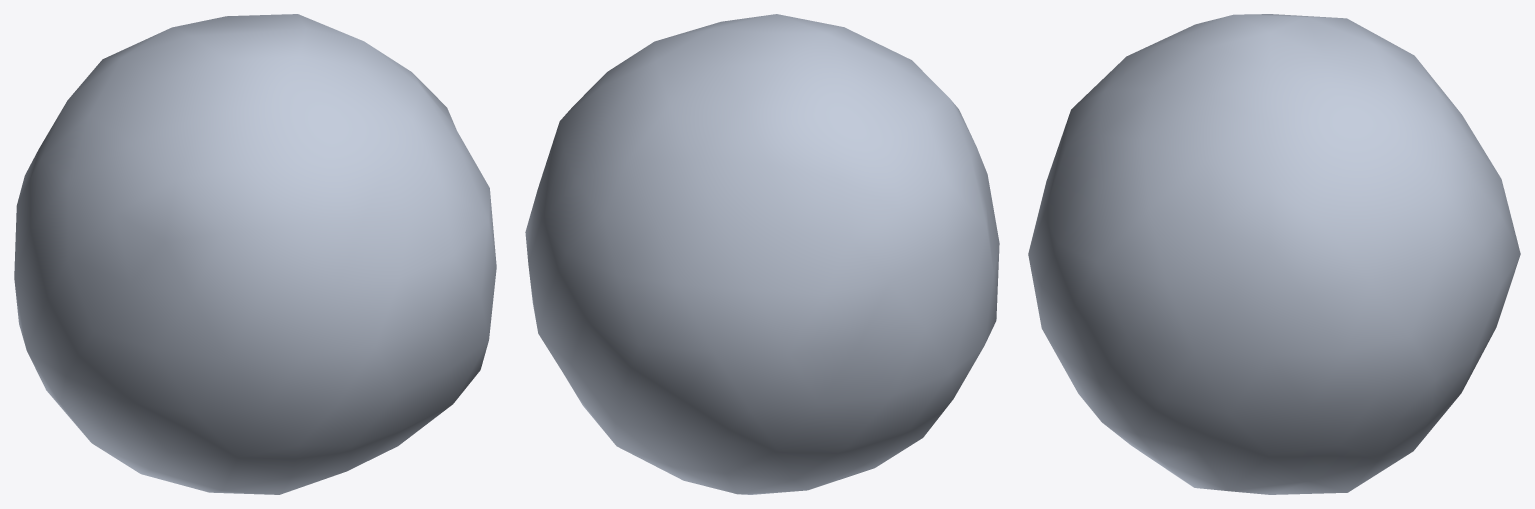
File: snowball.glb
3 views of the same model, side by side, from view 1: azimuth 30°, elevation 25°; view 2: azimuth 150°, elevation 25°; view 3: azimuth 270°, elevation 25° (orthographic).
Parts seen in each view (by area): view 1: Snowball_LOD0; view 2: Snowball_LOD0; view 3: Snowball_LOD0.
Boxes of the visible parts, <box> form: Snowball_LOD0: <box>14,14,496,494</box>; Snowball_LOD0: <box>525,14,999,494</box>; Snowball_LOD0: <box>1028,14,1520,494</box>.
Size of what is drawn, in the model's own units: 0.1285 by 0.1299 by 0.1323.
